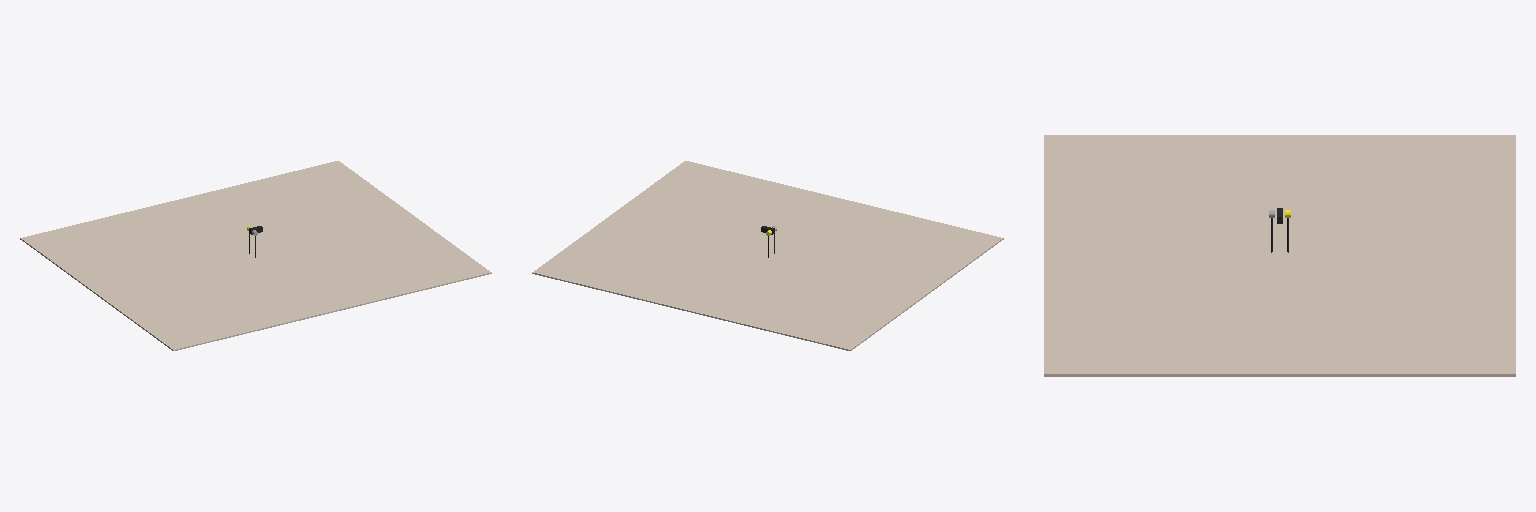
URDF robot description (centaur):
<?xml version="1.0"?>
<robot name="centaur">

  <material name="black">
    <color rgba="0.0 0.0 0.0 0.8"/>
  </material>
  <material name="blue">
    <color rgba="0.0 0.0 0.8 0.8"/>
  </material>
  <material name="green">
    <color rgba="0.0 0.8 0.0 0.2"/>
  </material>
  <material name="grey">
    <color rgba="0.2 0.2 0.2 0.4"/>
  </material>
  <material name="silver">
    <color rgba="0.913725490196 0.913725490196 0.847058823529 0.6"/>
  </material>
  <material name="orange">
    <color rgba="1.0 0.423529411765 0.0392156862745 0.5"/>
  </material>
  <material name="brown">
    <color rgba="0.870588235294 0.811764705882 0.764705882353 0.7"/>
  </material>
  <material name="red">
    <color rgba="0.8 0.0 0.0 1.0"/>
  </material>
  <material name="white">
    <color rgba="1.0 1.0 1.0 1.0"/>
  </material>

  <link name="world">
    <visual name="visual">
      <origin rpy="0 0 0" xyz="0 0 -0.025"/>
      <geometry>
        <box size="12.0 10.0 0.05"/>
      </geometry>
      <material name="brown"/>
    </visual>
    <collision name="collision">
      <origin rpy="0 0 0" xyz="0 0 -0.025"/>
        <geometry>
        <box size="12.0 10.0 0.05"/>
      </geometry>
    </collision>
  </link>

  <joint name="world_to_base" type="fixed">
    <origin rpy="0 0 0" xyz="0 0 0.905"/>
    <parent link="world"/>
    <child link="floating_base"/>
  </joint>

  <link name="floating_base">
    <visual>
      <origin rpy="0 0 0" xyz="0 0 0"/>
        <geometry>
          <box size="0.001 0.001 0.001"/>
        </geometry>
    </visual>    
  </link>

  <joint name="floating_base_to_torso" type="fixed">
    <origin rpy="0 0 0" xyz="0 0 0"/>
    <parent link="floating_base"/>
    <child link="torso"/>
  </joint>

  <link name="torso">
    <visual>
      <origin rpy="0 0 0" xyz="0 0 0"/>
      <geometry>
        <box size="0.432 0.146 0.17"/>
        <!-- <mesh filename="[local-path]/Data/Code/drake/workspace/centaur_sim/centaur_description/meshes/obj/shank.obj" scale="1 1 1"/> -->
      </geometry>
      <material name="grey"/>
    </visual>
    <collision>
      <origin rpy="0 0 0" xyz="0 0 0"/>
      <geometry>
        <box size="0.432 0.146 0.17"/>
      </geometry>
    </collision>
    <inertial>
      <origin rpy="0 0 0" xyz="0.0 0.0 0.0"/>
      <mass value="20.0"/>
      <inertia ixx="0.0837" ixy="0" ixz="0" iyy="0.3592" iyz="0" izz="0.3466"/>
    </inertial>
  </link>  

  <joint name="hind_left_hip_joint" type="revolute">
    <origin rpy="0 0 0" xyz="-0.048 0.173 0"/>
    <parent link="torso"/>
    <child link="hind_left_hip"/>
    <axis xyz="1 0 0"/>
    <dynamics damping="0" friction="0"/>
    <limit effort="140" lower="-0.8028514559173915" upper="0.8028514559173915" velocity="93"/>
  </joint>
  <transmission name="left_abad_trans" type="SimpleTransmission">
    <actuator name="tau_0"/>
    <joint name="hind_left_hip_joint"/>
    <mechanicalReduction>1</mechanicalReduction>
  </transmission>

  <link name="hind_left_hip">
    <visual>
      <origin rpy="1.5707963267948966 0 0" xyz="-0.084 0 0"/>
      <geometry>
        <cylinder length="0.127" radius="0.084"/>
      </geometry>
    </visual>
    <collision>
      <origin rpy="1.5707963267948966 0 0" xyz="-0.084 0 0"/>
      <geometry>
        <cylinder length="0.127" radius="0.084"/>
      </geometry>
    </collision>
    <inertial>
      <origin rpy="1.5707963267948966 0 0" xyz="-0.084 0 0"/>
      <mass value="1.7"/>
      <inertia ixx="0.0053" iyy="0.0053" izz="0.006"/>
    </inertial>
  </link>

  <joint name="hind_left_thigh_joint" type="revolute">
    <origin rpy="0 0 0" xyz="-0.084 0 0"/>
    <parent link="hind_left_hip"/>
    <child link="hind_left_thigh"/>
    <axis xyz="0 1 0"/>
    <dynamics damping="0" friction="0"/>
    <limit effort="140" lower="-0.3" upper="1.2" velocity="93"/>
  </joint>
  <transmission name="left_hip_trans" type="SimpleTransmission">
    <actuator name="tau_1"/>
    <joint name="hind_left_thigh_joint"/>
    <mechanicalReduction>1</mechanicalReduction>
  </transmission>

  <link name="hind_left_thigh">
    <visual>
      <origin rpy="0 0 0" xyz="0 0 -0.29"/>
      <geometry>
        <cylinder length="0.58" radius="0.0175"/>
      </geometry>
      <material name="grey"/>
    </visual>
    <collision>
      <origin rpy="0 0 0" xyz="0 0 -0.29"/>
      <geometry>
        <cylinder length="0.58" radius="0.0175"/>
      </geometry>
    </collision>
    <inertial>
      <origin rpy="0 0 0" xyz="0 0 -0.29"/>
      <mass value="0.5"/>
      <inertia ixx="0.0141" iyy="0.0141" izz="0.0001"/>
    </inertial>
  </link>

  <joint name="hind_left_knee_joint" type="revolute">
    <origin rpy="0 0 0" xyz="0 0 -0.58"/>
    <parent link="hind_left_thigh"/>
    <child link="hind_left_shank"/>
    <axis xyz="0 1 0"/>
    <dynamics damping="0" friction="0"/>
    <limit effort="140" lower="-1.2" upper="0" velocity="93"/>
  </joint>
  <transmission name="left_knee_trans" type="SimpleTransmission">
    <actuator name="tau_2"/>
    <joint name="hind_left_knee_joint"/>
    <mechanicalReduction>1</mechanicalReduction>
  </transmission>

  <link name="hind_left_shank">
    <visual>
      <origin rpy="0 0 0" xyz="0 0 -0.2225"/>
      <geometry>
        <cylinder length="0.445" radius="0.015"/>
      </geometry>
      <material name="grey"/>
    </visual>
    <collision>
      <origin rpy="0 0 0" xyz="0 0 -0.2225"/>
      <geometry>
        <cylinder length="0.445" radius="0.015"/>
      </geometry>
    </collision>
    <inertial>
      <origin rpy="0 0 0" xyz="0 0 -0.2225"/>
      <mass value="0.5"/>
      <inertia ixx="0.0083" iyy="0.0083" izz="0.0001"/>
    </inertial>
  </link>

  <joint name="left_foot_fixed_joint" type="fixed">
    <origin rpy="0 0 0" xyz="0 0 -0.455"/>
    <parent link="hind_left_shank"/>
    <child link="hind_left_foot"/>
  </joint>

  <link name="hind_left_foot">
    <visual>
      <origin rpy="0 0 0" xyz="0 0 0"/>
      <geometry>
        <sphere radius="0.02"/>
      </geometry>
      <material name="orange"/>
    </visual>
    <collision>
      <origin rpy="0 0 0" xyz="0 0 -0.02"/>
      <geometry>
        <sphere radius="0.02"/>
      </geometry>
    </collision>
  </link>
  
  <!-- right side -->

  <joint name="hind_right_hip_joint" type="revolute">
    <origin rpy="0 0 0" xyz="-0.048 -0.173 0"/>
    <parent link="torso"/>
    <child link="hind_right_hip"/>
    <axis xyz="1 0 0"/>
    <dynamics damping="0" friction="0"/>
    <limit effort="140" lower="-0.8028514559173915" upper="0.8028514559173915" velocity="93"/>
  </joint>
  <transmission name="right_abad_trans" type="SimpleTransmission">
    <actuator name="tau_3"/>
    <joint name="hind_right_hip_joint"/>
    <mechanicalReduction>1</mechanicalReduction>
  </transmission>

  <link name="hind_right_hip">
    <visual>
      <origin rpy="1.5707963267948966 0 0" xyz="-0.084 0 0"/>
      <geometry>
        <cylinder length="0.127" radius="0.084"/>
      </geometry>
    </visual>
    <collision>
      <origin rpy="1.5707963267948966 0 0" xyz="-0.084 0 0"/>
      <geometry>
        <cylinder length="0.127" radius="0.084"/>
      </geometry>
    </collision>
    <inertial>
      <origin rpy="1.5707963267948966 0 0" xyz="-0.084 0 0"/>
      <mass value="1.7"/>
      <inertia ixx="0.0053" iyy="0.0053" izz="0.006"/>
    </inertial>
  </link>

  <joint name="hind_right_thigh_joint" type="revolute">
    <origin rpy="0 0 0" xyz="-0.084 0 0"/>
    <parent link="hind_right_hip"/>
    <child link="hind_right_thigh"/>
    <axis xyz="0 1 0"/>
    <dynamics damping="0" friction="0"/>
    <limit effort="140" lower="-0.3" upper="1.2" velocity="93"/>
  </joint>
  <transmission name="right_hip_trans" type="SimpleTransmission">
    <actuator name="tau_4"/>
    <joint name="hind_right_thigh_joint"/>
    <mechanicalReduction>1</mechanicalReduction>
  </transmission>

  <link name="hind_right_thigh">
    <visual>
      <origin rpy="0 0 0" xyz="0 0 -0.29"/>
      <geometry>
        <cylinder length="0.58" radius="0.0175"/>
      </geometry>
      <material name="grey"/>
    </visual>
    <collision>
      <origin rpy="0 0 0" xyz="0 0 -0.29"/>
      <geometry>
        <cylinder length="0.58" radius="0.0175"/>
      </geometry>
    </collision>
    <inertial>
      <origin rpy="0 0 0" xyz="0 0 -0.29"/>
      <mass value="0.5"/>
      <inertia ixx="0.0141" iyy="0.0141" izz="0.0001"/>
    </inertial>
  </link>

  <joint name="hind_right_knee_joint" type="revolute">
    <origin rpy="0 0 0" xyz="0 0 -0.58"/>
    <parent link="hind_right_thigh"/>
    <child link="hind_right_shank"/>
    <axis xyz="0 1 0"/>
    <dynamics damping="0" friction="0"/>
    <limit effort="140" lower="-1.2" upper="0" velocity="93"/>
  </joint>
  <transmission name="right_knee_trans" type="SimpleTransmission">
    <actuator name="tau_5"/>
    <joint name="hind_right_knee_joint"/>
    <mechanicalReduction>1</mechanicalReduction>
  </transmission>

  <link name="hind_right_shank">
    <visual>
      <origin rpy="0 0 0" xyz="0 0 -0.2225"/>
      <geometry>
        <cylinder length="0.445" radius="0.015"/>
      </geometry>
      <material name="grey"/>
    </visual>
    <collision>
      <origin rpy="0 0 0" xyz="0 0 -0.2225"/>
      <geometry>
        <cylinder length="0.445" radius="0.015"/>
      </geometry>
    </collision>
    <inertial>
      <origin rpy="0 0 0" xyz="0 0 -0.2225"/>
      <mass value="0.5"/>
      <inertia ixx="0.0083" iyy="0.0083" izz="0.0001"/>
    </inertial>
  </link>

  <joint name="right_foot_fixed_joint" type="fixed">
    <origin rpy="0 0 0" xyz="0 0 -0.455"/>
    <parent link="hind_right_shank"/>
    <child link="hind_right_foot"/>
  </joint>

  <link name="hind_right_foot">
    <visual>
      <origin rpy="0 0 0" xyz="0 0 0"/>
      <geometry>
        <sphere radius="0.02"/>
      </geometry>
      <material name="orange"/>
    </visual>
    <collision>
      <origin rpy="0 0 0" xyz="0 0 -0.02"/>
      <geometry>
        <sphere radius="0.02"/>
      </geometry>
    </collision>
  </link>
  








  





</robot>

--- Render facts (derived) ---
3 views of the same robot in one strip: view 1: azimuth 30°, elevation 25°; view 2: azimuth 150°, elevation 25°; view 3: azimuth 270°, elevation 25° (orthographic).
Robot: centaur — 11 links, 10 joints (6 revolute, 4 fixed); root link world; default pose: every joint at zero.
Visible links, largest first — view 1: world; view 2: world; view 3: world.
Link boxes in pixels (bbox=[...]): world: bbox=[20, 161, 491, 350]; world: bbox=[532, 161, 1003, 350]; world: bbox=[1044, 135, 1515, 376].
Bounding box of the posed robot: 12 × 10 × 1.14 m (x, y, z).
Geometry: primitives only (box / cylinder / sphere), no mesh files.
